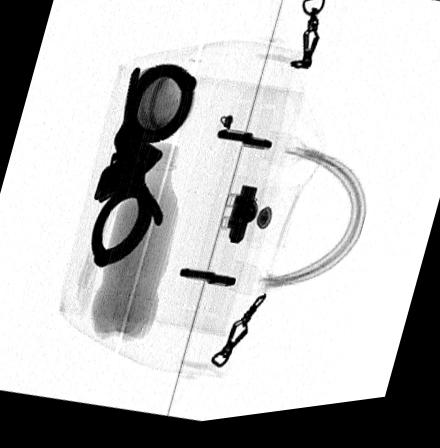HandCuffs: (88, 62, 202, 271)
